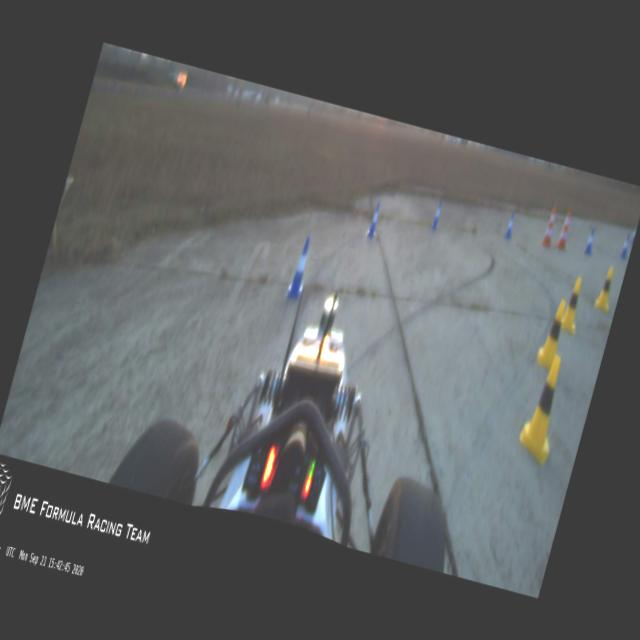blue_cone: (286, 235, 316, 299), (366, 201, 383, 236), (430, 199, 445, 230), (584, 227, 597, 254), (618, 232, 631, 259), (504, 211, 516, 238), (630, 226, 636, 244)
large_orange_cone: (540, 203, 561, 248), (556, 206, 574, 250)
yellow_cone: (513, 351, 574, 469), (534, 298, 572, 370), (557, 276, 589, 336), (592, 264, 620, 312)
